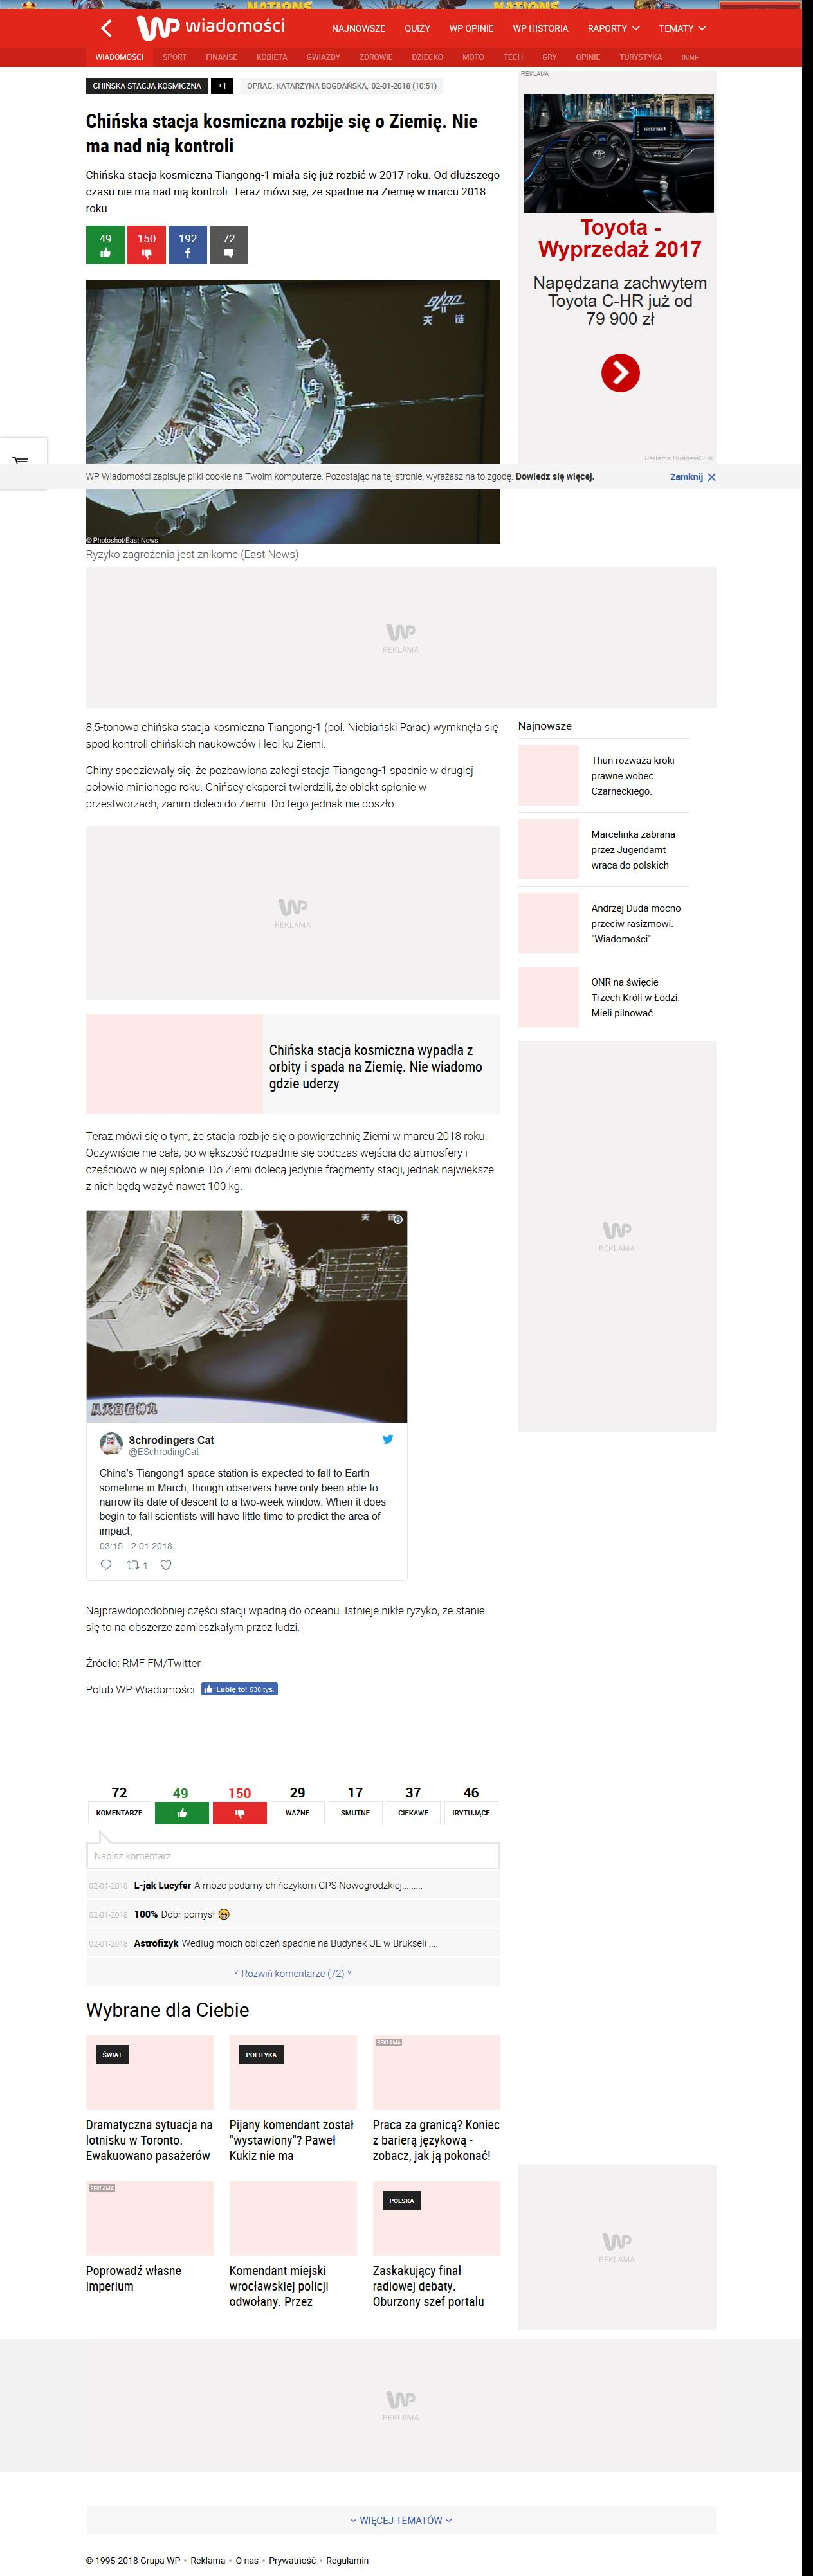title: (85, 112, 480, 156)
